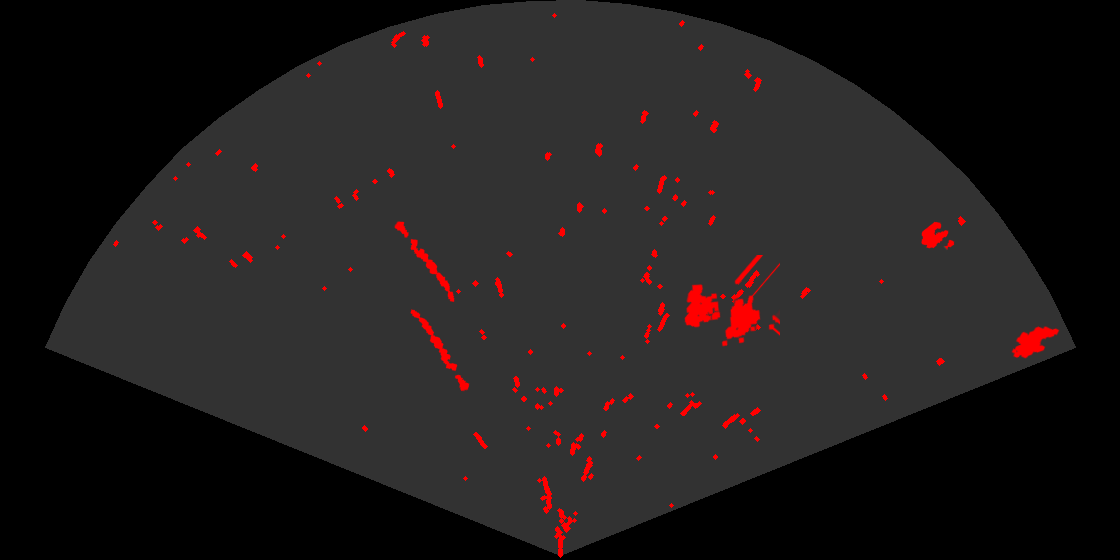AUV: (1010, 325, 1061, 360)
ball: (920, 220, 956, 251)
cage: (683, 255, 780, 348)
chain: (393, 220, 456, 304), (409, 308, 471, 393)
